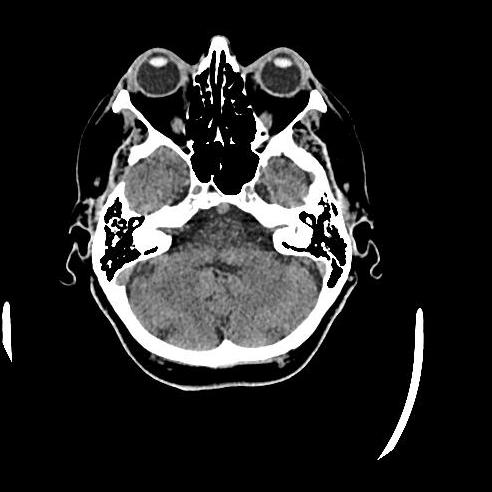Normal_Brain: (61, 27, 388, 398)
